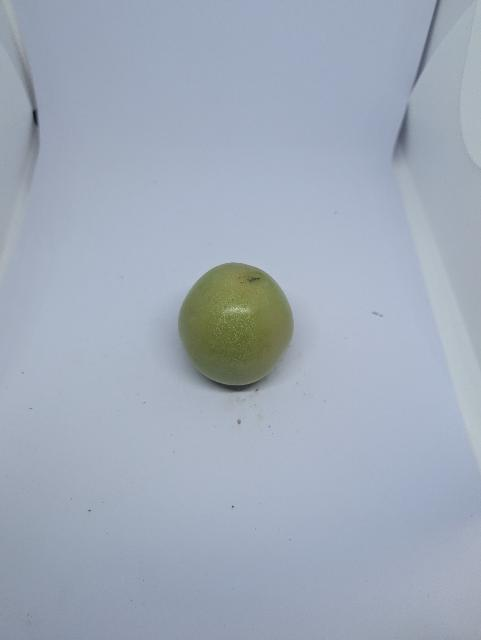green: (175, 259, 297, 388)
